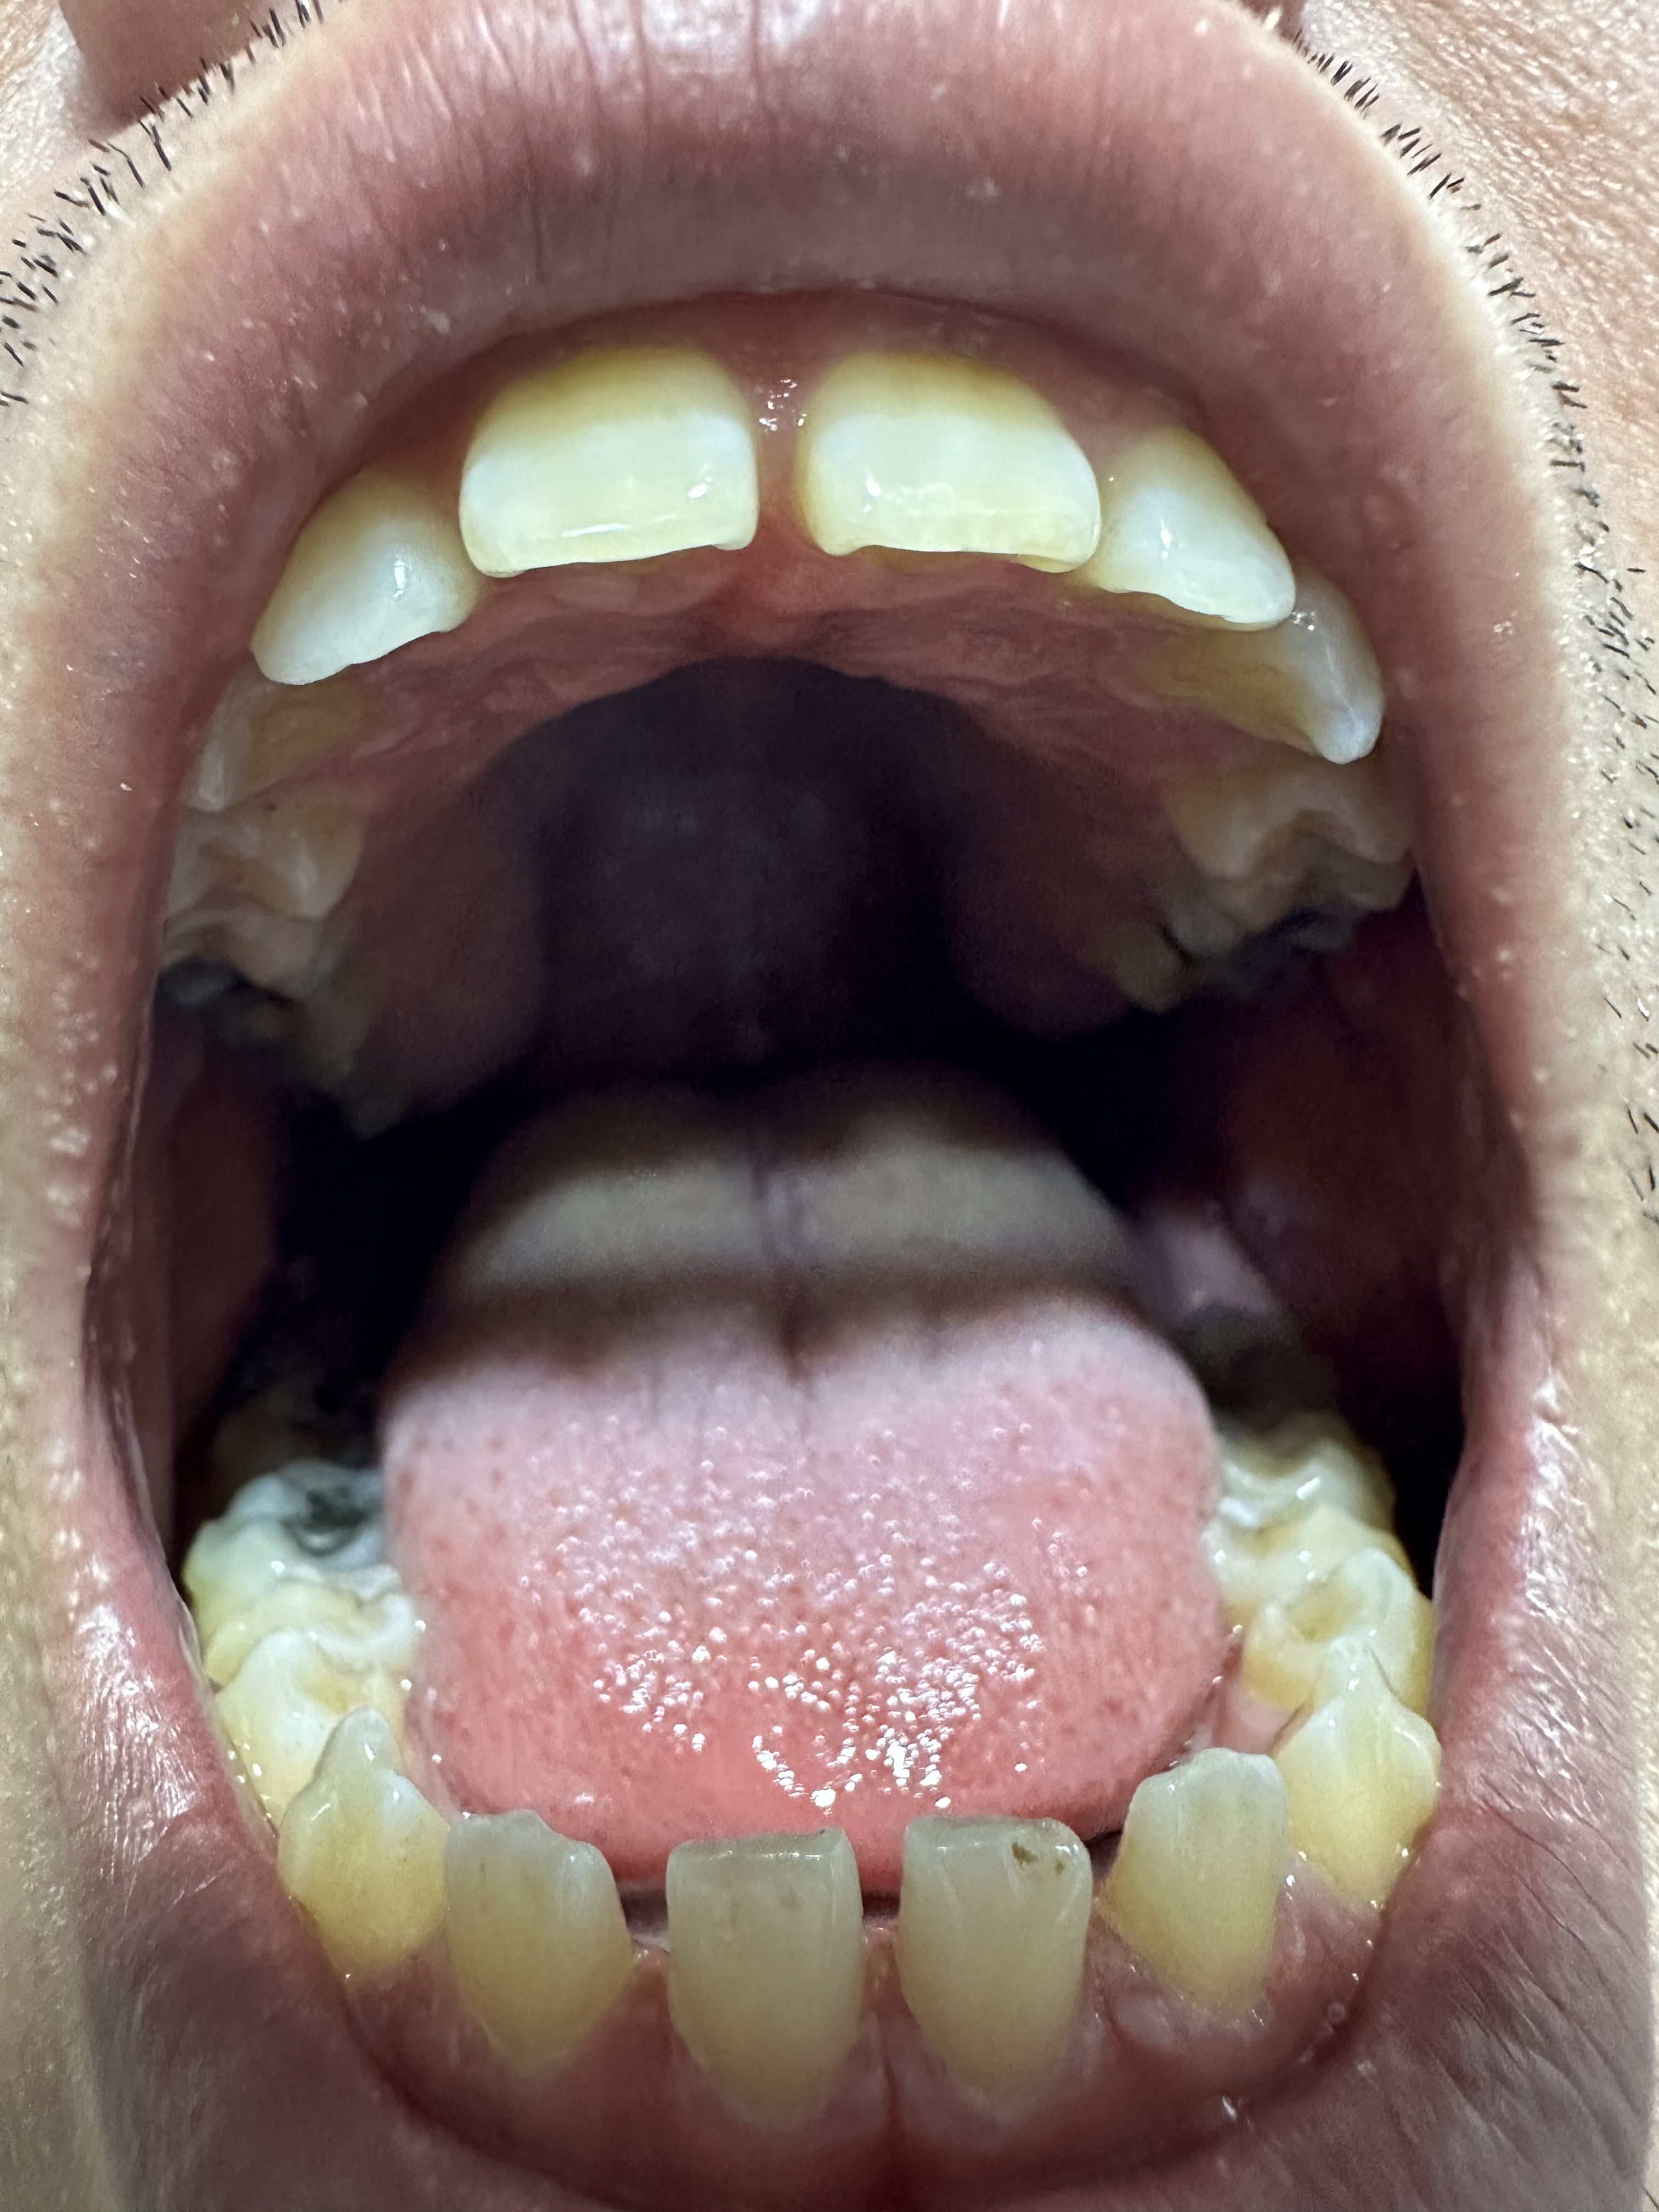teeth: (800, 362, 1101, 568), (434, 357, 725, 568), (657, 1825, 857, 2130), (899, 1825, 1096, 2130), (1110, 580, 1364, 770), (444, 1815, 620, 2088), (275, 1743, 448, 1994), (188, 1608, 408, 1799), (1112, 1766, 1281, 2008), (188, 1439, 390, 1634), (188, 695, 396, 883), (1096, 420, 1291, 618), (253, 474, 448, 669), (1197, 1407, 1391, 1590), (1195, 754, 1401, 918), (1304, 1644, 1412, 1909), (167, 878, 326, 1045), (1244, 1569, 1425, 1702)
